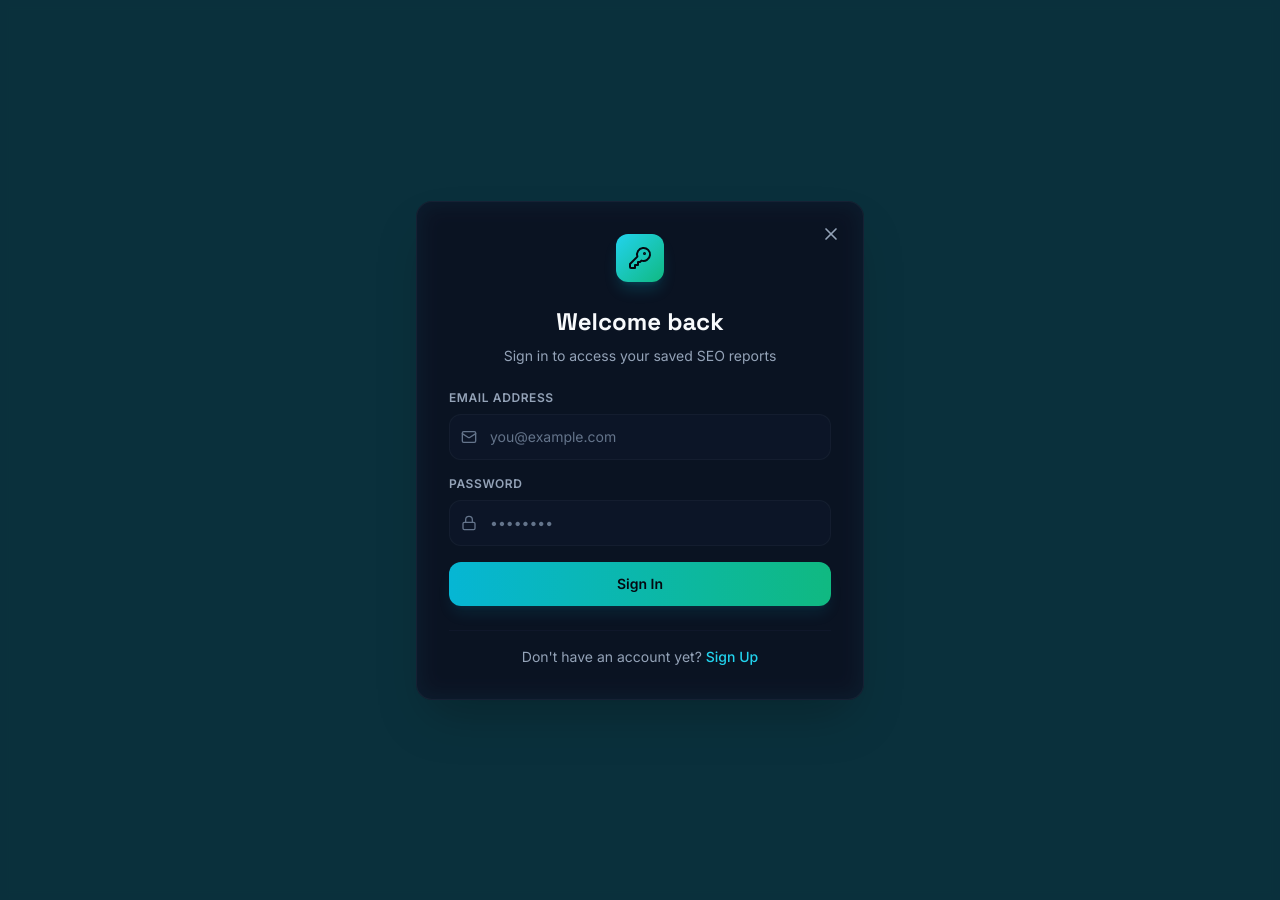
Scenario: AuthModal - Login and Signup Automation Tests (JS) › should switch mode between Sign In and Sign Up
The width and height of the screenshot is (1280, 900).
Switch to Sign Up mode
Click the button "Sign Up".
click(732, 656)  # box [706,646,758,666]
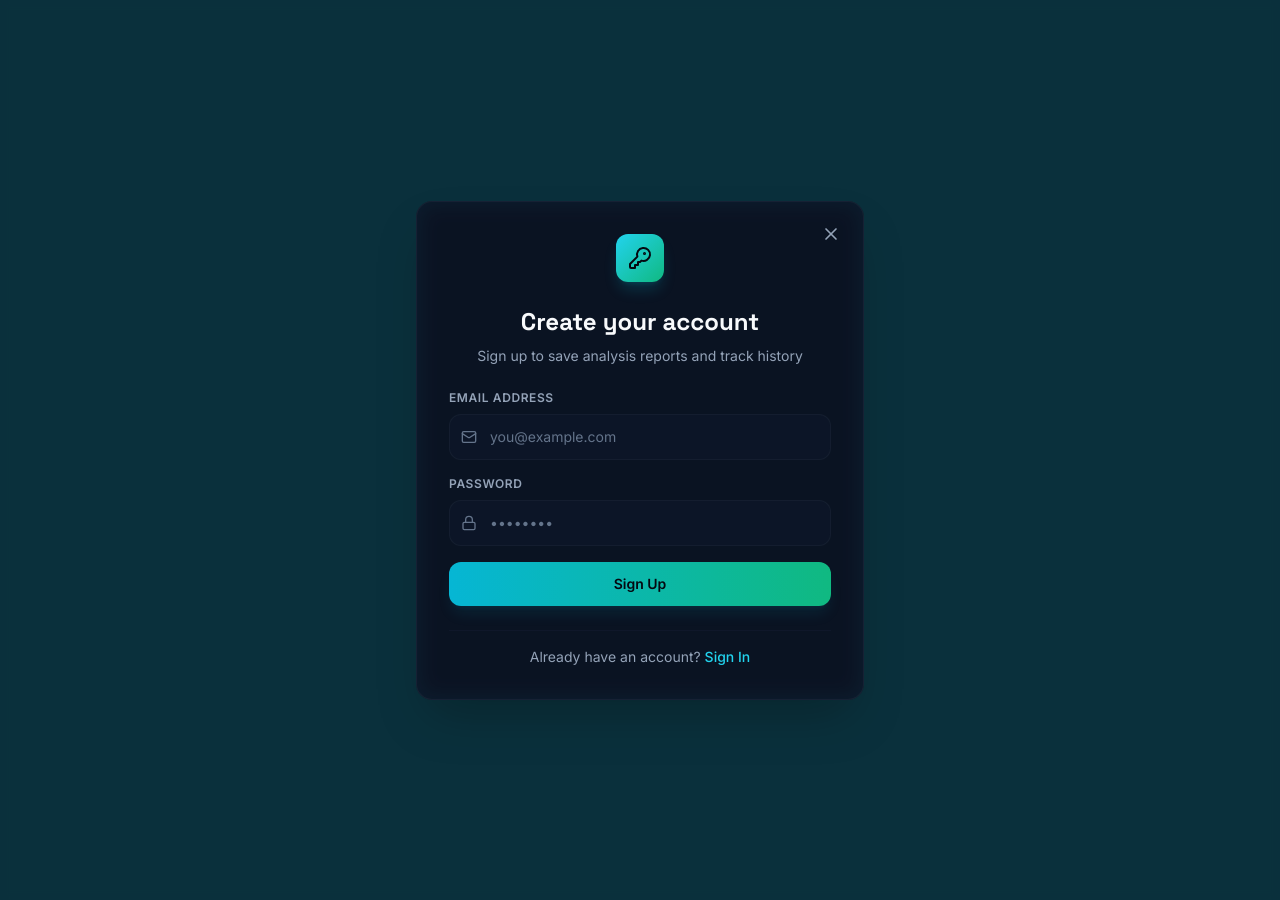
Check: the heading "Create your account" is shown, box [521,306,759,336]
Check: the button "Sign Up" is shown, box [449,562,831,606]
Switch back to Sign In mode
Click the button "Sign In".
click(727, 656)  # box [705,646,750,666]
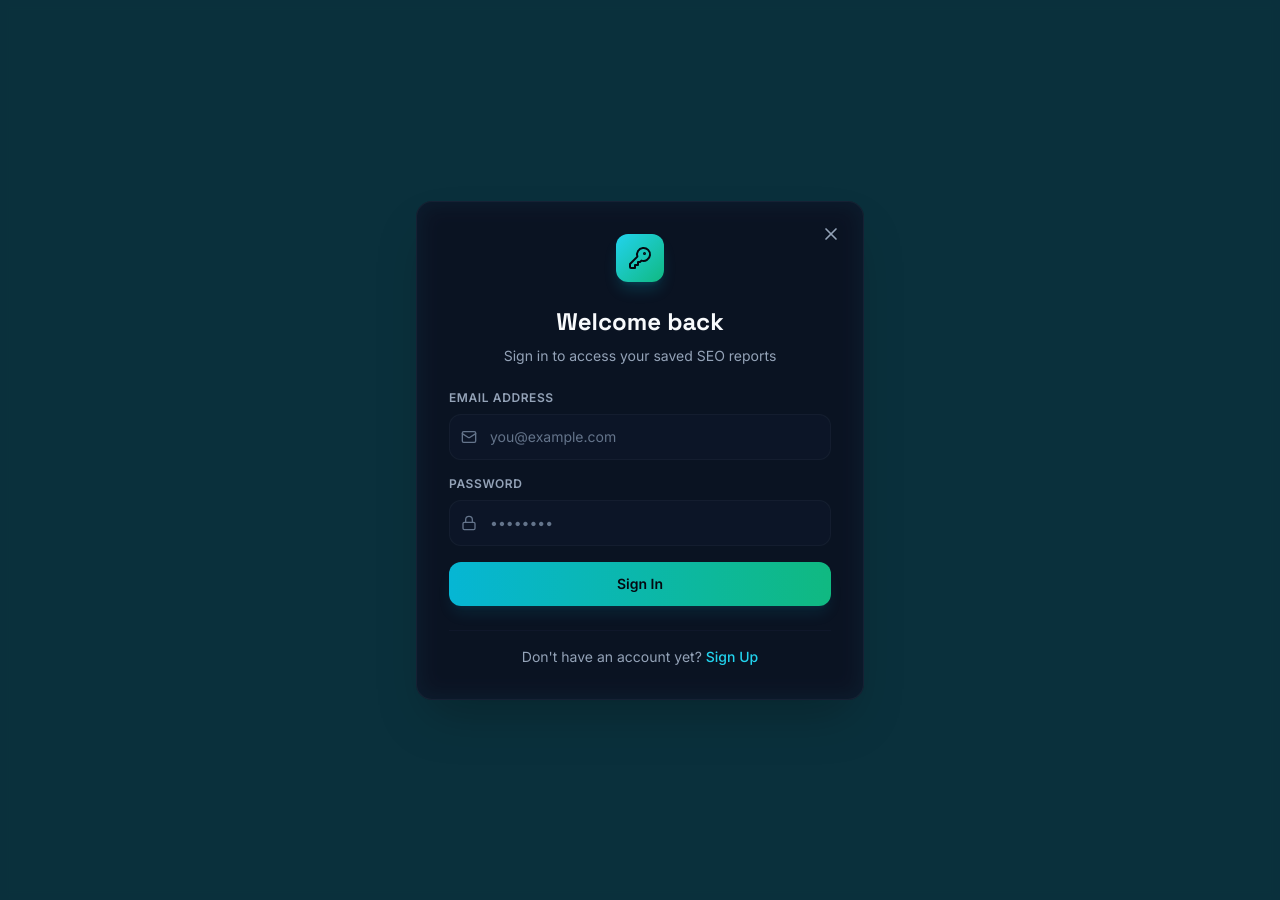
Check: the heading "Welcome back" is shown, box [556,306,724,336]
